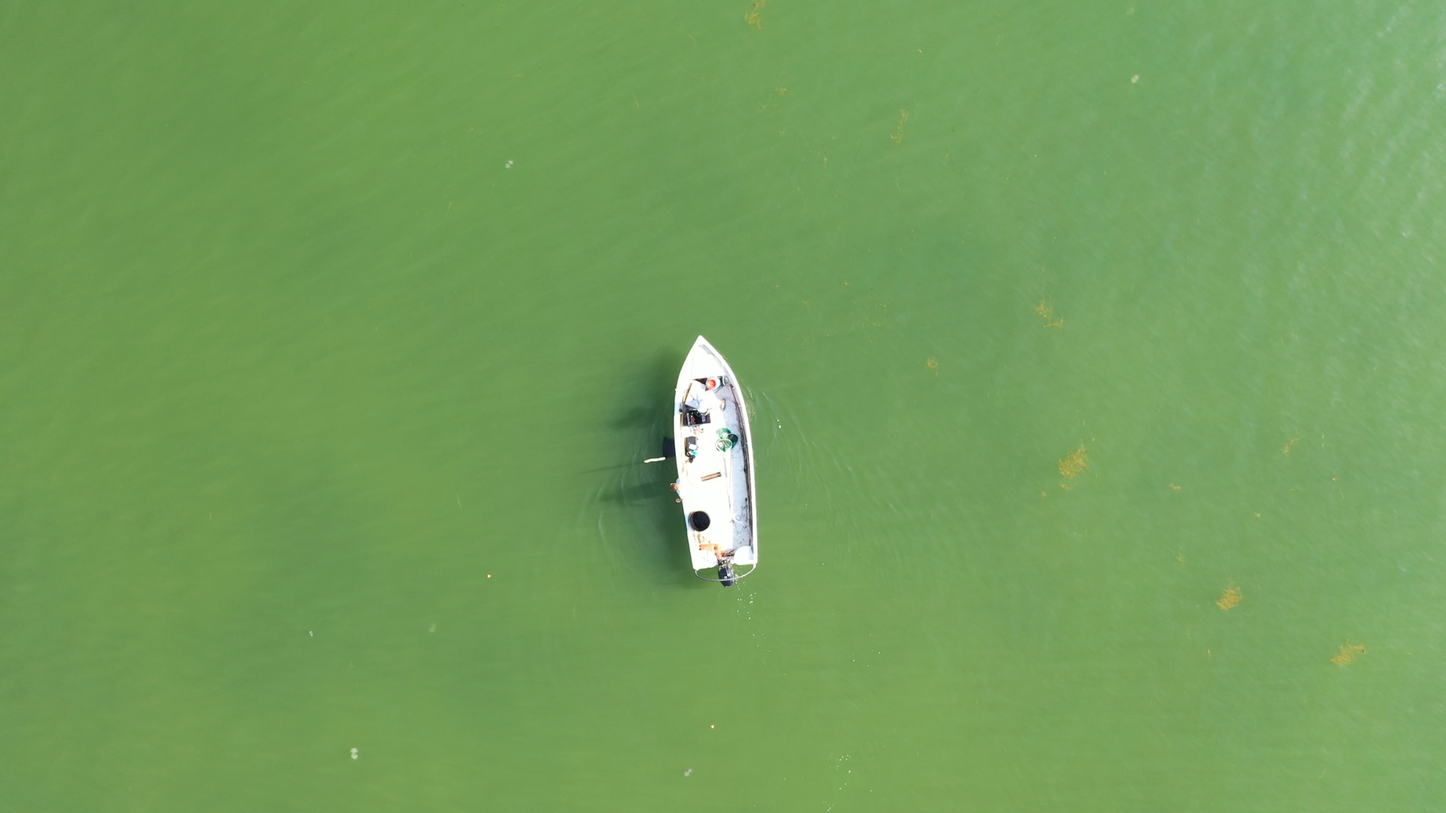meduse: (350, 748, 360, 759), (427, 622, 437, 632), (505, 160, 516, 167), (685, 768, 692, 776), (1132, 75, 1138, 84), (1127, 8, 1134, 15), (309, 630, 315, 637)
